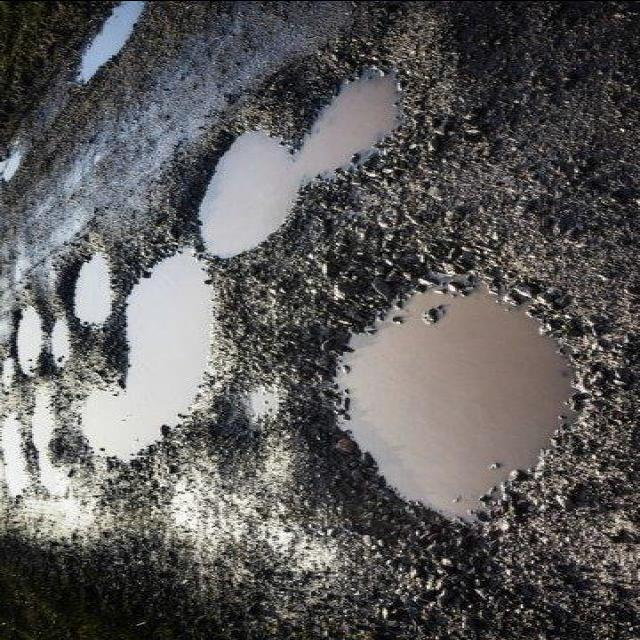lubang: (273, 239, 603, 541), (294, 13, 472, 199), (110, 237, 262, 444), (172, 91, 320, 266), (60, 376, 184, 472), (42, 1, 152, 91), (200, 361, 308, 448), (20, 387, 88, 499), (49, 233, 123, 334), (0, 106, 56, 202), (0, 406, 38, 515), (0, 292, 42, 378), (41, 310, 77, 379)
